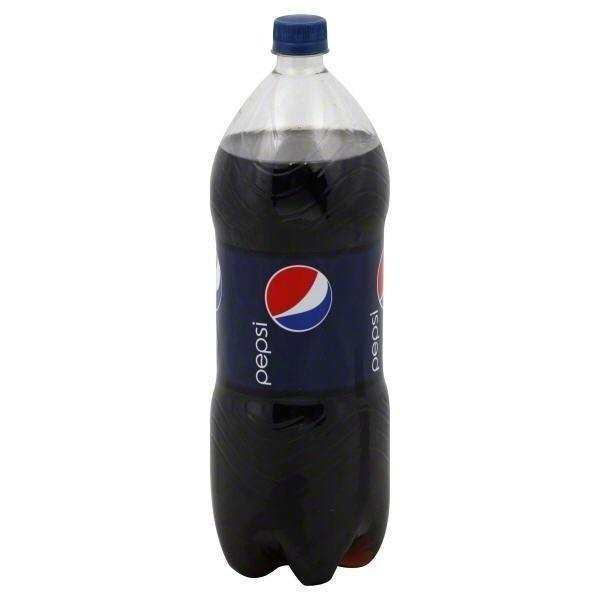bottle-plastic: (199, 4, 403, 587)
